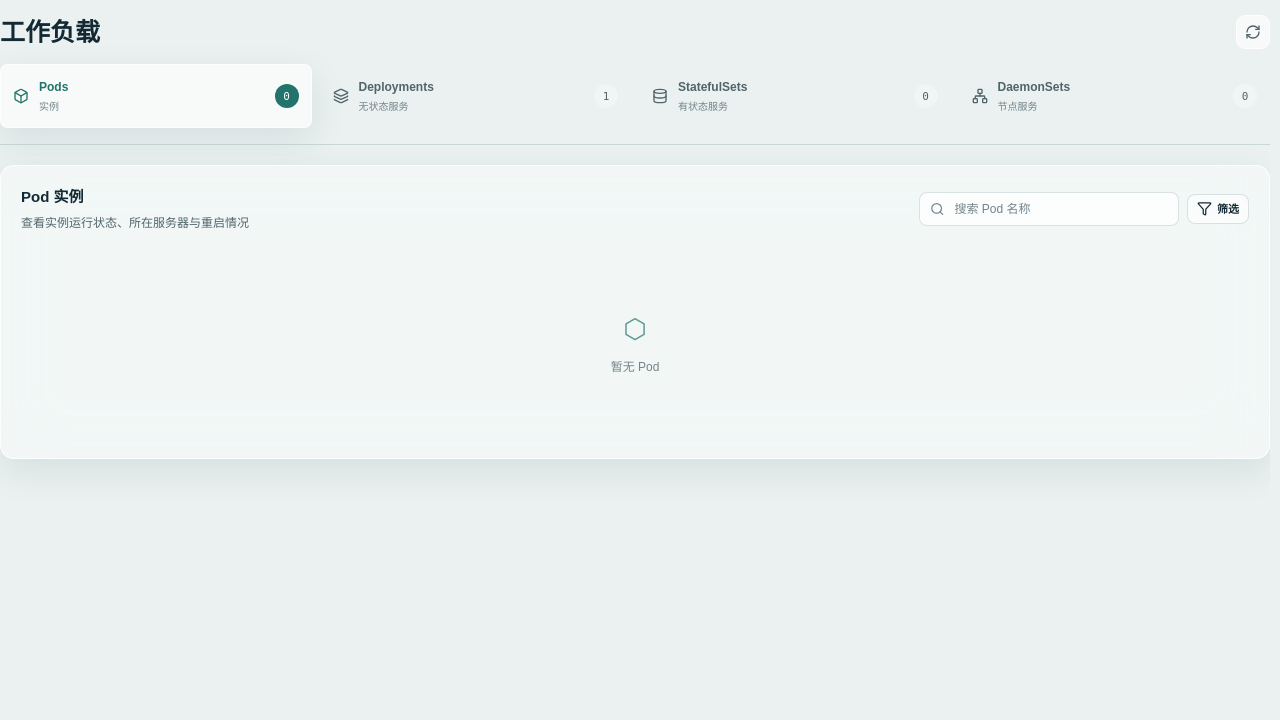
Test: Workloads view › keeps the scale dialog open and releases submitting state on failure
The width and height of the screenshot is (1280, 720).
What coordinates should you click on to do the following:
click the button with class "resource-tab" showing "Deployments 无状态服务 1"
I would click on:
 (396, 87)
Its box is [320,64,631,128].
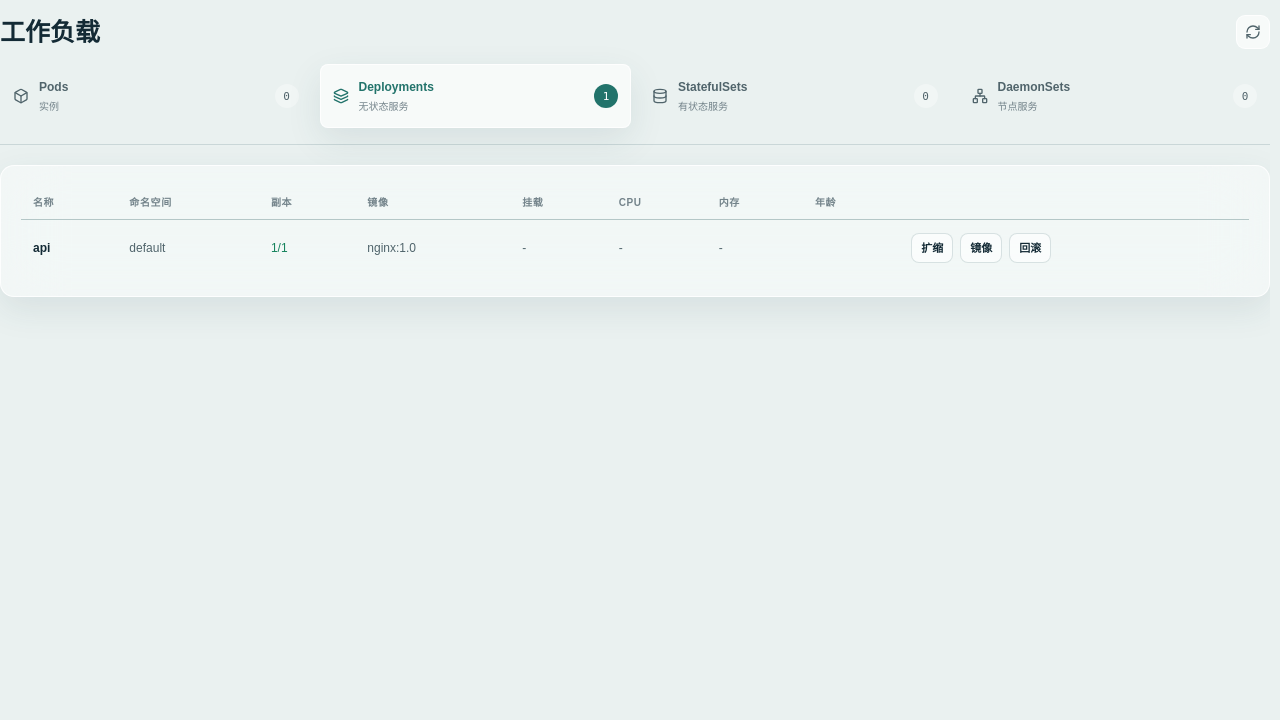
What coordinates should you click on to do the following:
click the button "扩缩"
I would click on:
 (932, 248)
Its box is [911,233,953,263].
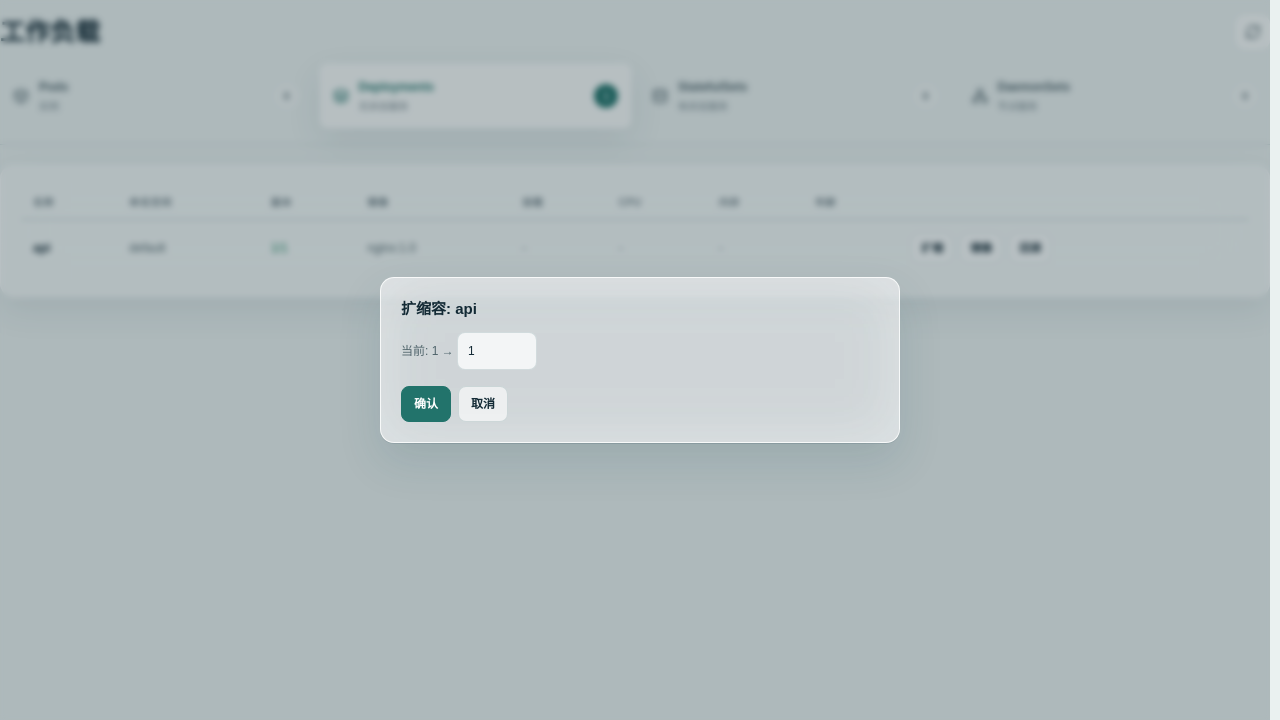
What coordinates should you click on to do the following:
click the button "确认"
I would click on:
 (426, 404)
Its box is [401,386,451,422].
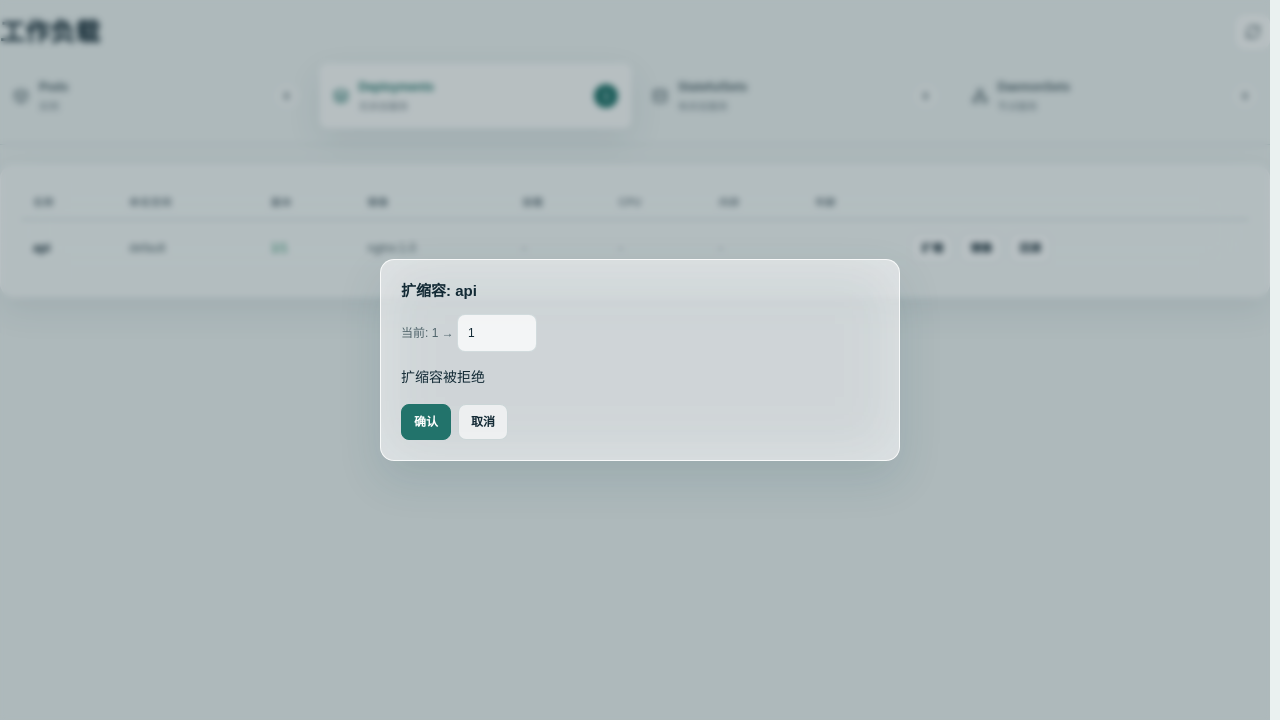
Now the element with class "modal" is shown, box [380,259,900,461]
Now the button "确认" is enabled, box [401,404,451,440]
Now the text "扩缩容被拒绝" is shown, box [401,369,485,385]
